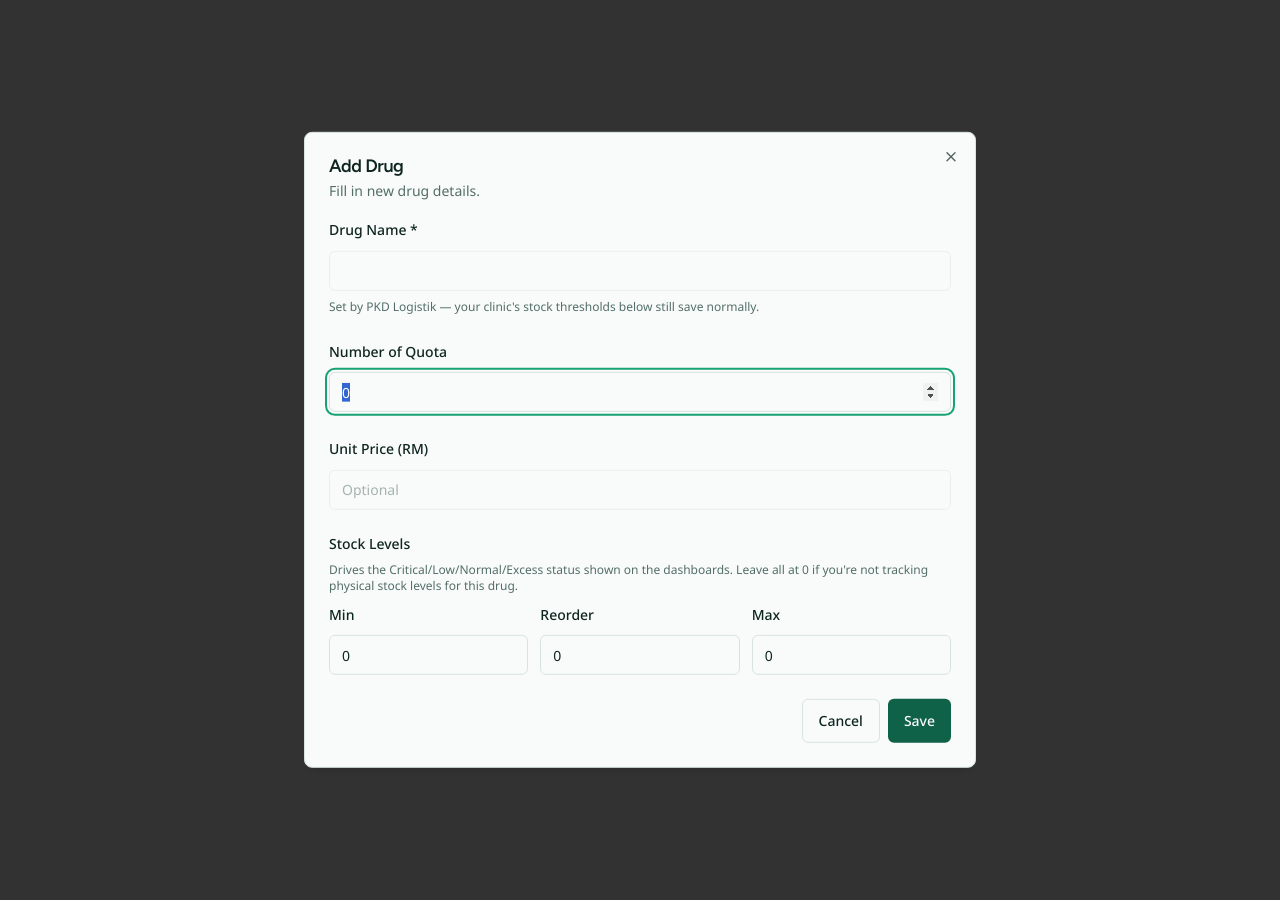
Test: DrugFormDialog Zod validation messages › shows 'Drug name is required' when submitting empty form
// Currently Zod message is "Nama ubat diperlukan" — this FAILS until ENGL-04 translation
Click the button "Save". click: x=919, y=721
box: x1=888 y1=699 x2=951 y2=743
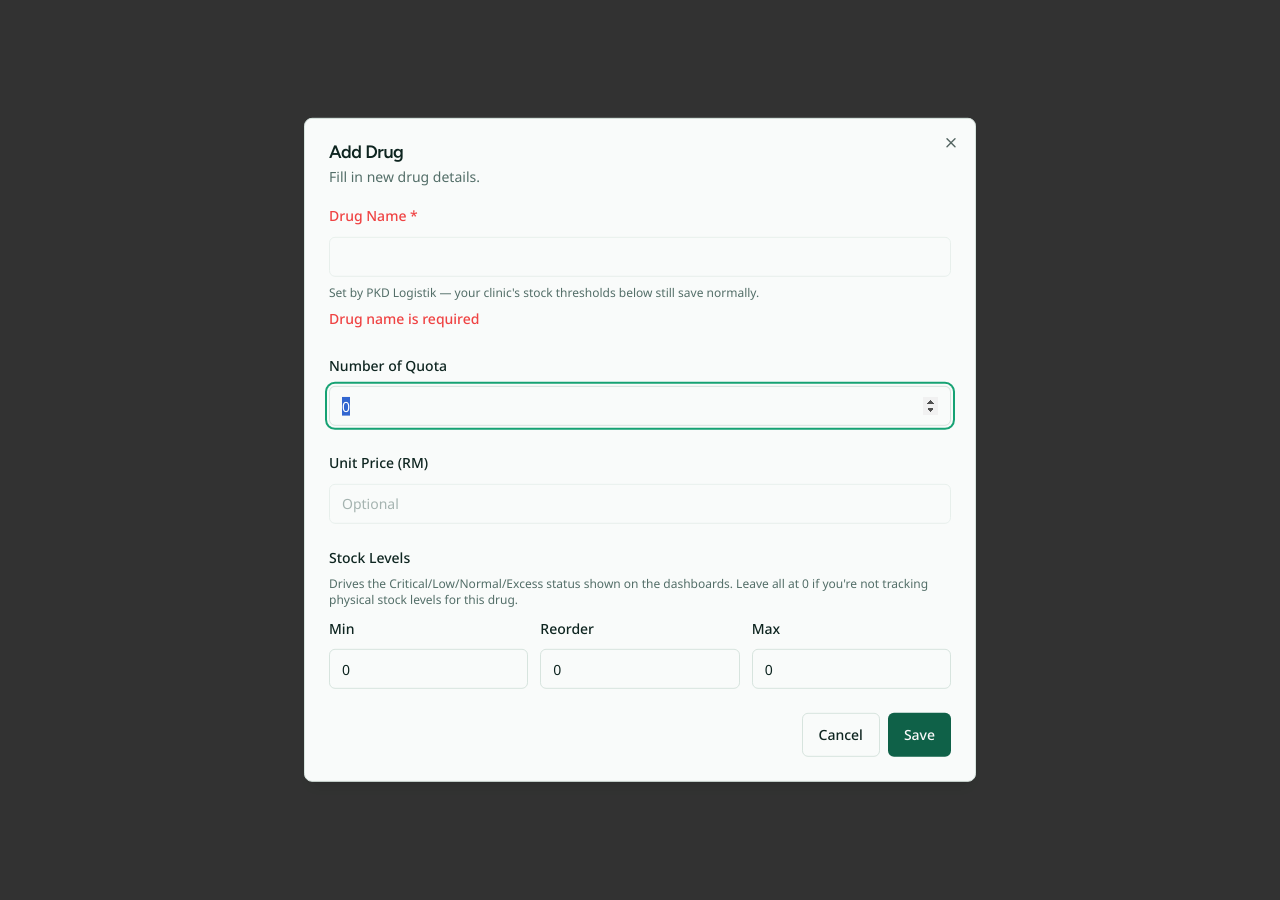
Expected: the text "Drug name is required" is shown, x1=329 y1=308 x2=480 y2=327
